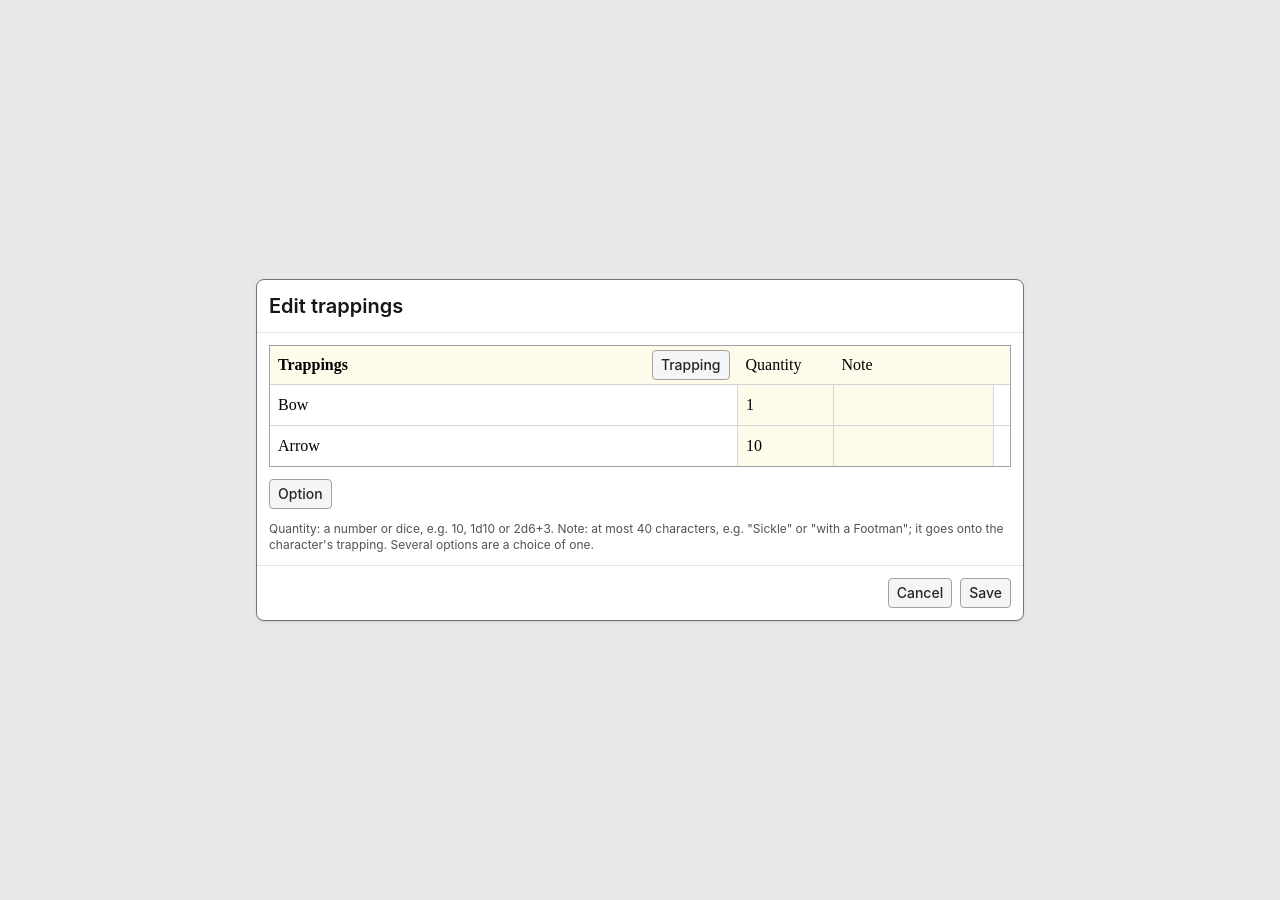
it: CareerTrappingEntryModal › an invalid quantity is reported and can't be saved
Replace the text in the field named "Quantity of Arrow" with "0" at (786, 446), box [738,426,833,466]
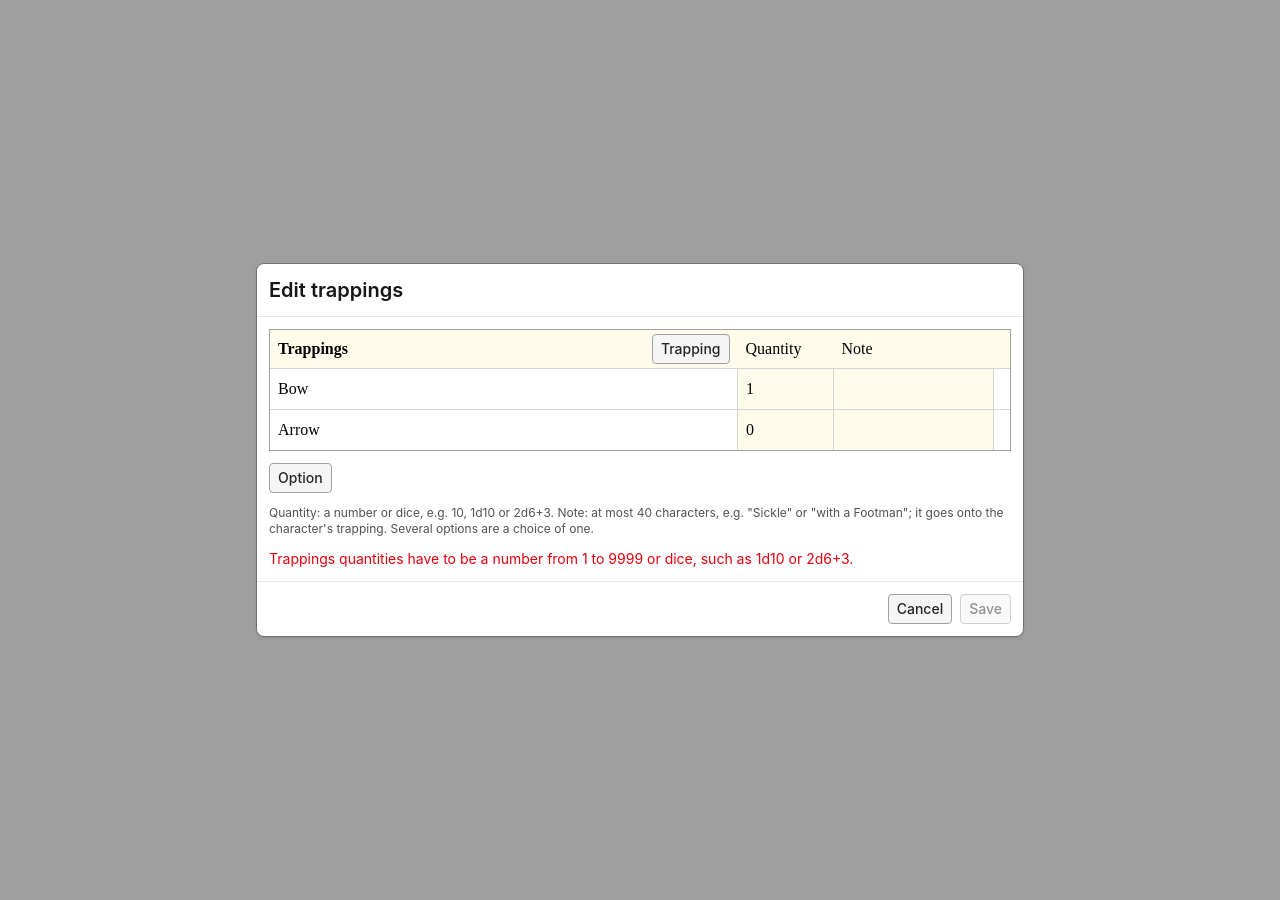
Now the text "quantities have to be a number" is shown, box [269,550,853,567]
Now the button "Save" is disabled, box [960,594,1011,624]
